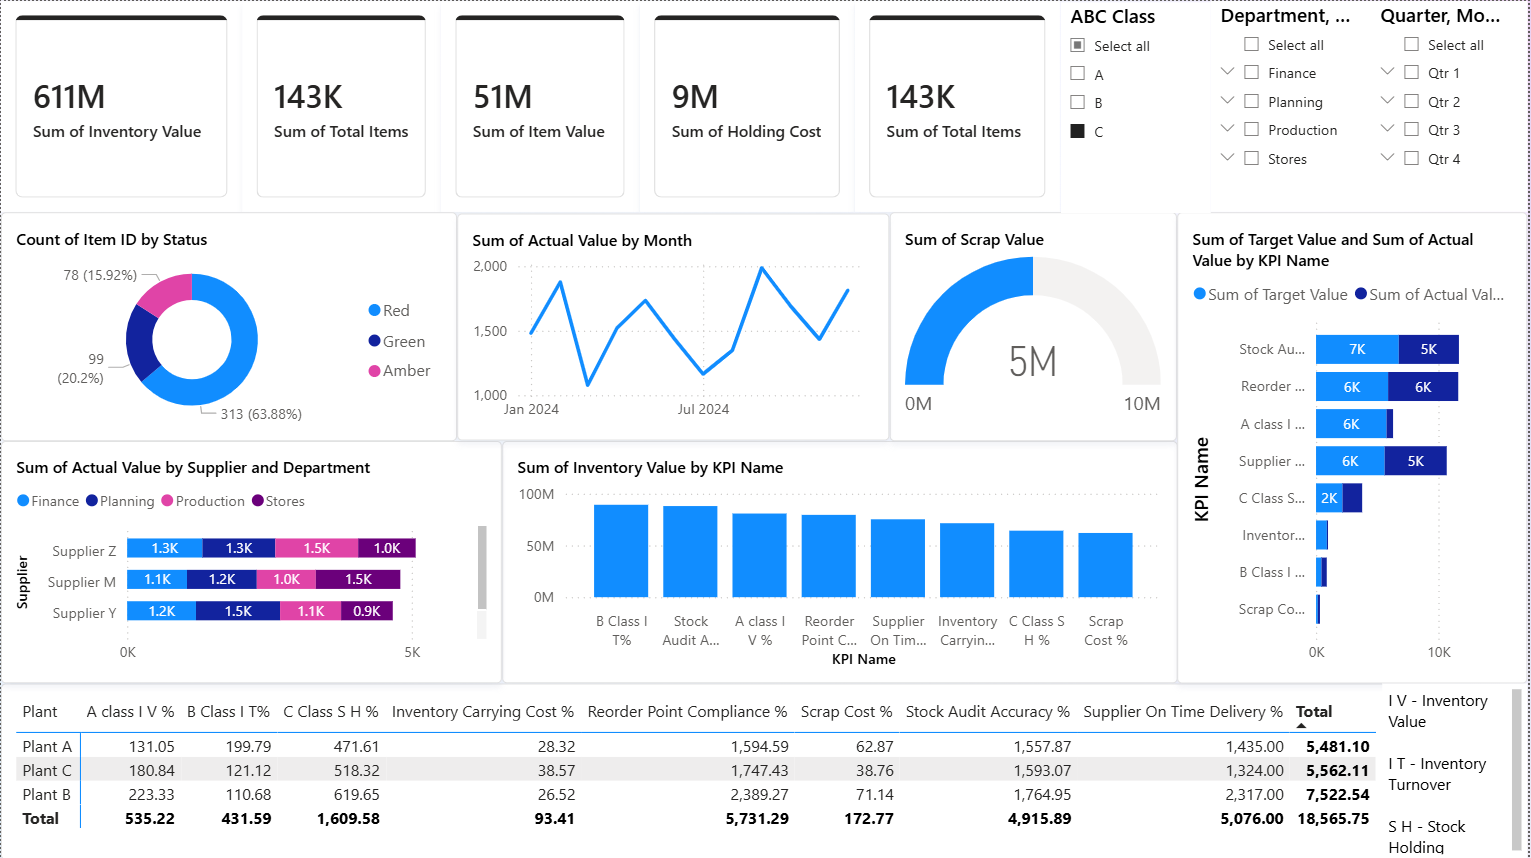

What the dashboard file says about the page in this screenshot:
{"tool":"powerbi","page":{"name":"Page 1","canvas":[1280,720],"ordinal":0},"visuals":[{"type":"cardVisual","fields":{"Data":["Sum(abc.Inventory_Value)"]},"box":[0,0,202.3,177.2],"z":0},{"type":"cardVisual","fields":{"Data":["Sum(abc.Total_Items)"]},"box":[202.3,0,166.7,177.2],"z":1000},{"type":"cardVisual","fields":{"Data":["Sum(abc.Item_Value)"]},"box":[369,0,166.7,177.2],"z":2000},{"type":"cardVisual","fields":{"Data":["Sum(abc.Holding_Cost)"]},"box":[535.7,0,180.3,177.2],"z":3000},{"type":"cardVisual","fields":{"Data":["Sum(abc.Total_Items)"]},"box":[716,0,173,177.2],"z":4000},{"type":"slicer","fields":{"Values":["abc.Department","abc.Plant"]},"box":[1014.8,0,134.2,177.2],"z":5000},{"type":"donutChart","fields":{"Category":["abc.Status"],"Y":["CountNonNull(abc.Item_ID)"]},"box":[0,176.7,382.6,191.9],"z":6000},{"type":"lineStackedColumnComboChart","fields":{"Category":["abc.KPI_Name"],"Y":["Sum(abc.Inventory_Value)"]},"box":[420.4,369,566.1,203.4],"z":7000},{"type":"gauge","fields":{"Y":["Sum(abc.Scrap_Value)"]},"box":[745.4,176.7,240.7,191.9],"z":8000},{"type":"pivotTable","fields":{"Rows":["abc.Plant"],"Values":["Sum(abc.Actual_Value)"],"Columns":["abc.KPI Name"]},"box":[0,572.4,1280,147.8],"z":9000},{"type":"barChart","fields":{"Category":["abc.Supplier"],"Y":["Sum(abc.Actual_Value)"],"Series":["abc.Department"]},"box":[0,369,420.4,203.4],"z":10000},{"type":"lineChart","fields":{"Category":["abc.Month"],"Y":["Sum(abc.Actual_Value)"]},"box":[382.6,178.2,362.7,190.8],"z":11000},{"type":"barChart","fields":{"Category":["abc.KPI_Name"],"Y":["Sum(abc.Target_Value)","Sum(abc.Actual_Value)"]},"box":[986.5,177.2,293.5,395.2],"z":12000},{"type":"slicer","fields":{"Values":["abc.ABC_Class"]},"box":[889,1,125.8,177.2],"z":13000},{"type":"slicer","fields":{"Values":["abc.Month.Variation.Date Hierarchy.Quarter","abc.Month.Variation.Date Hierarchy.Month"]},"box":[1149,0,131,177.2],"z":14000},{"type":"textbox","box":[1158.4,572.4,121.6,147.8],"z":15000}]}

Visuals, with their boxes in screenshot pixels (x1, y1, x2, y2), scaled from the page's 1280x720 canvas onto the 1531x858 screenshot:
cardVisual - Sum(abc.Inventory_Value): x1=0 y1=0 x2=242 y2=211
cardVisual - Sum(abc.Total_Items): x1=242 y1=0 x2=441 y2=211
cardVisual - Sum(abc.Item_Value): x1=441 y1=0 x2=641 y2=211
cardVisual - Sum(abc.Holding_Cost): x1=641 y1=0 x2=856 y2=211
cardVisual - Sum(abc.Total_Items): x1=856 y1=0 x2=1063 y2=211
slicer - abc.Department x abc.Plant: x1=1214 y1=0 x2=1374 y2=211
donutChart - abc.Status x CountNonNull(abc.Item_ID): x1=0 y1=211 x2=458 y2=439
lineStackedColumnComboChart - abc.KPI_Name x Sum(abc.Inventory_Value): x1=503 y1=440 x2=1180 y2=682
gauge - Sum(abc.Scrap_Value): x1=892 y1=211 x2=1179 y2=439
pivotTable - abc.Plant x Sum(abc.Actual_Value): x1=0 y1=682 x2=1530 y2=857
barChart - abc.Supplier x Sum(abc.Actual_Value): x1=0 y1=440 x2=503 y2=682
lineChart - abc.Month x Sum(abc.Actual_Value): x1=458 y1=212 x2=891 y2=440
barChart - abc.KPI_Name x Sum(abc.Target_Value): x1=1180 y1=211 x2=1530 y2=682
slicer - abc.ABC_Class: x1=1063 y1=1 x2=1214 y2=212
slicer - abc.Month.Variation.Date Hierarchy.Quarter x abc.Month.Variation.Date Hierarchy.Month: x1=1374 y1=0 x2=1530 y2=211
textbox: x1=1386 y1=682 x2=1530 y2=857
